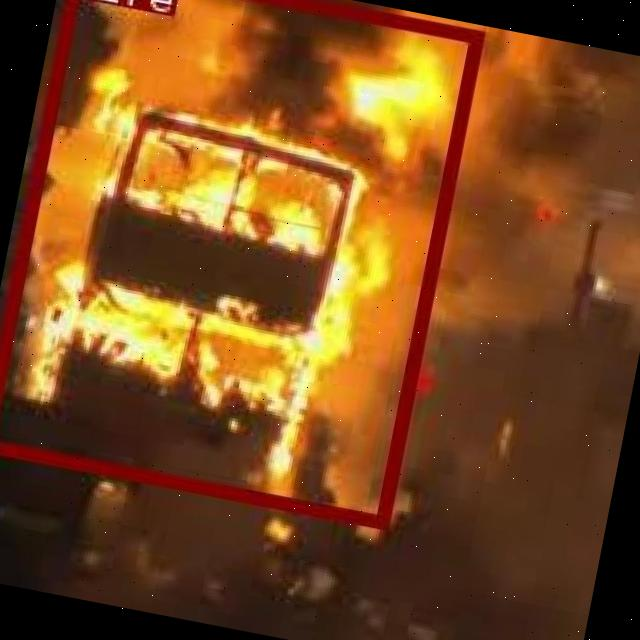fire: (0, 0, 483, 527)
